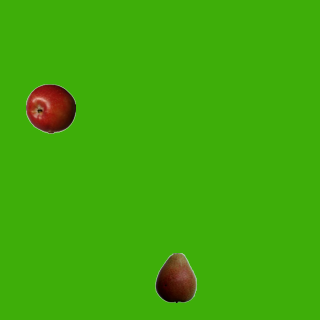Apple Braeburn: (25, 83, 75, 133)
Pear Forelle: (150, 252, 200, 302)
